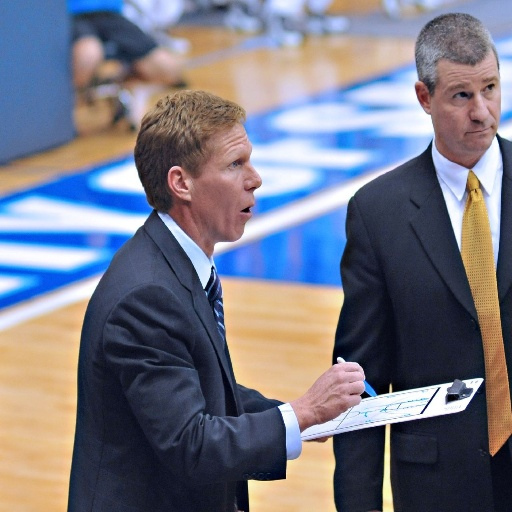hand: (309, 362, 379, 429), (301, 435, 335, 443)
